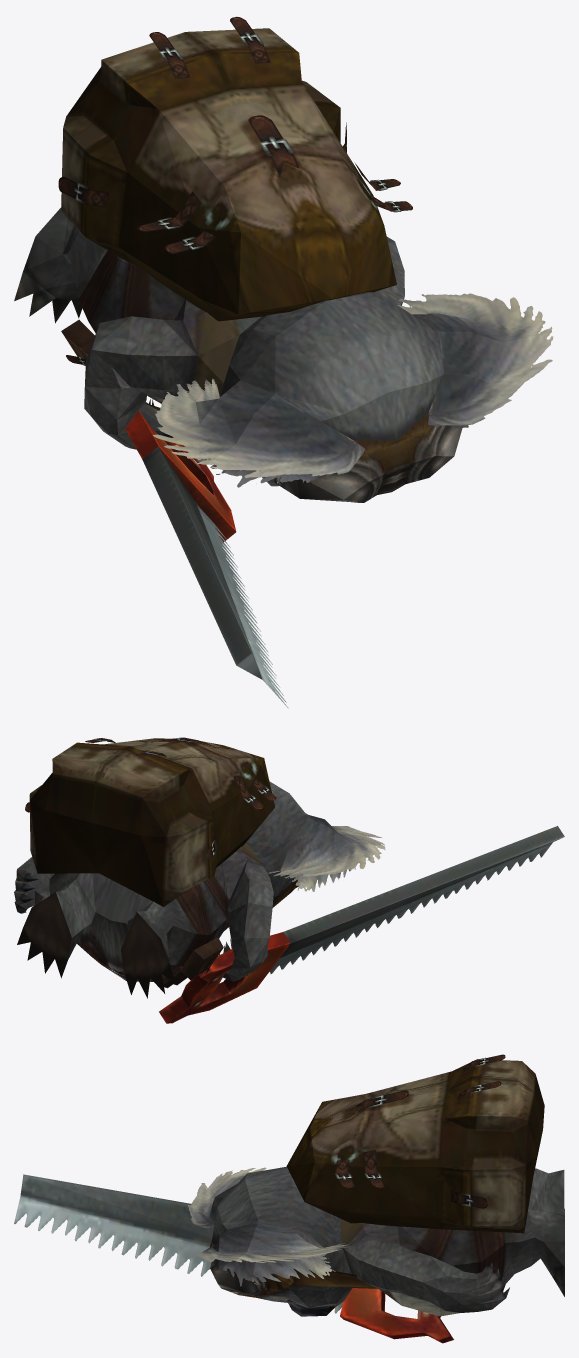
Rendered from pet_kaola.obj.
3 views of the same model, one above another, from view 1: azimuth 30°, elevation 25°; view 2: azimuth 150°, elevation 25°; view 3: azimuth 270°, elevation 25° (orthographic). The views are drawn at different scales.
Visible parts, largest first — view 1: Pet_kaola, Object01, Object02, Object03; view 2: Object01, Pet_kaola, Object02, Object03; view 3: Object01, Pet_kaola, Object02.
Part boxes in pixels (left/top/right/bottom): Pet_kaola: left=14, top=207, right=553, bottom=502; Object01: left=58, top=16, right=412, bottom=321; Object02: left=125, top=410, right=288, bottom=708; Object03: left=61, top=319, right=94, bottom=365; Object01: left=25, top=737, right=276, bottom=906; Pet_kaola: left=14, top=781, right=385, bottom=998; Object02: left=159, top=826, right=564, bottom=1023; Object03: left=180, top=937, right=223, bottom=979; Object01: left=286, top=1054, right=544, bottom=1233; Pet_kaola: left=188, top=1166, right=564, bottom=1316; Object02: left=14, top=1174, right=453, bottom=1343.
Size of the model in its own units: 46.27 by 38.98 by 66.93.
1 material, 1 textured.
